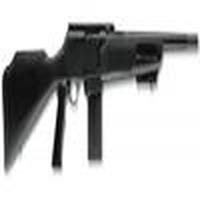gun: (6, 31, 197, 169)
